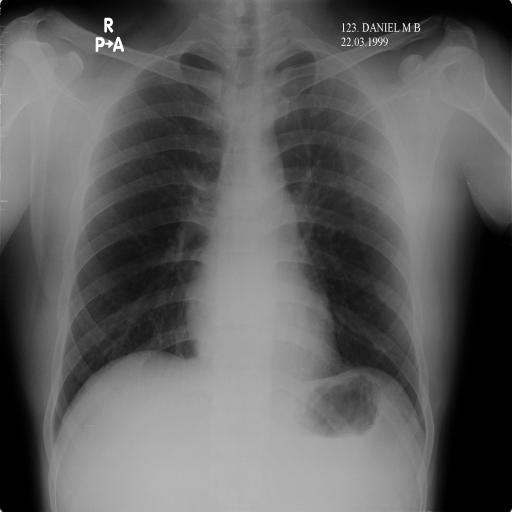normal: (42, 27, 436, 454)
